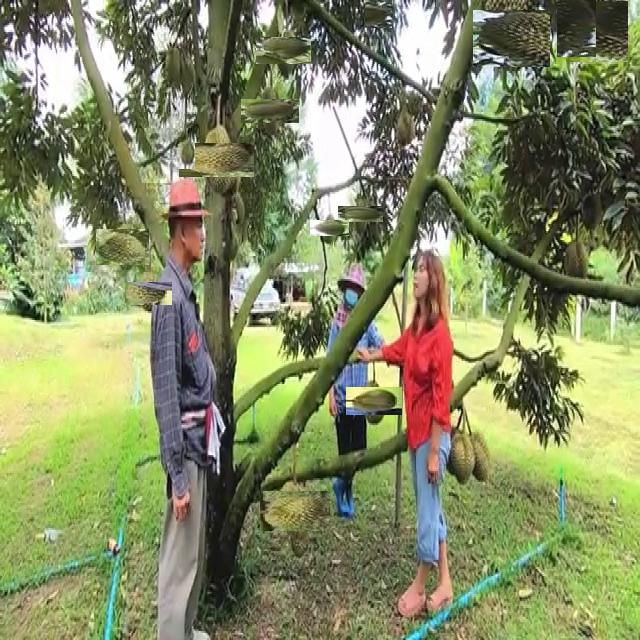durian: (477, 5, 545, 72), (566, 0, 628, 62), (268, 484, 323, 539), (190, 133, 244, 187), (549, 0, 606, 48), (100, 224, 145, 269), (353, 380, 396, 423), (263, 30, 304, 72), (250, 91, 290, 132), (465, 426, 492, 485), (450, 430, 476, 491), (131, 276, 166, 312), (393, 108, 418, 148), (346, 198, 376, 230), (316, 214, 344, 242), (365, 0, 393, 28), (179, 136, 195, 169)
